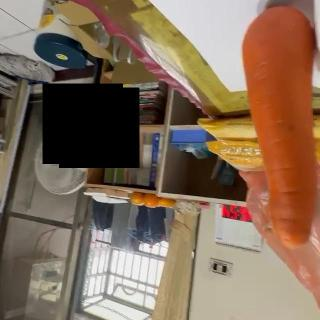carrot: (240, 4, 318, 250)
